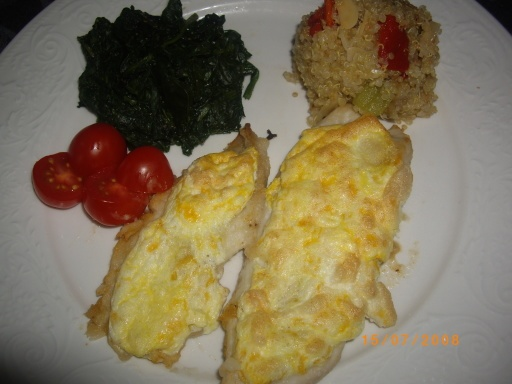background: (25, 0, 354, 230)
